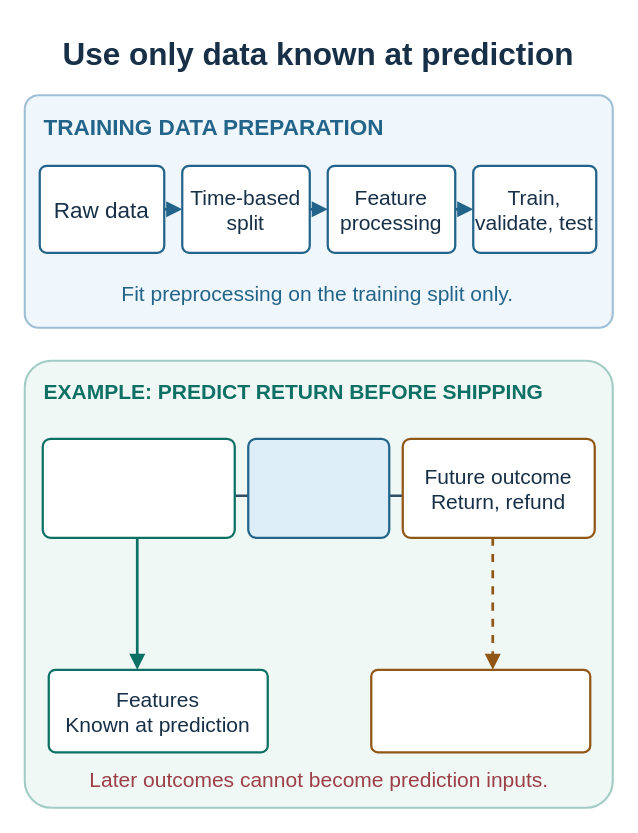
This 638x833 diagram has some shape labels left out. Here are the shapes that lost their labels. From the top down, the centre of each, then its label:
At (x=138, y=487): "Before shipment Order, address".
At (x=318, y=487): "Prediction time".
At (x=480, y=710): "Training label Returned or not".
